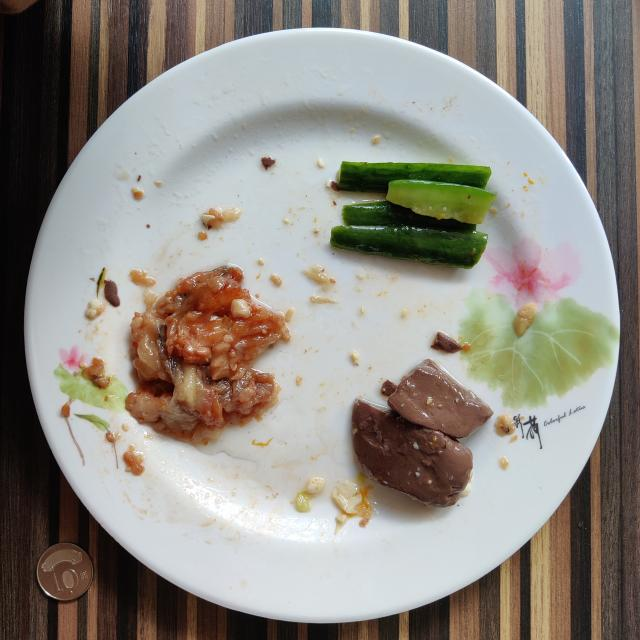Kabayaki sea bream fillet: (126, 266, 290, 444)
coin: (36, 542, 92, 601)
cucumber: (330, 161, 496, 269)
pig blood curd: (352, 359, 492, 508)
